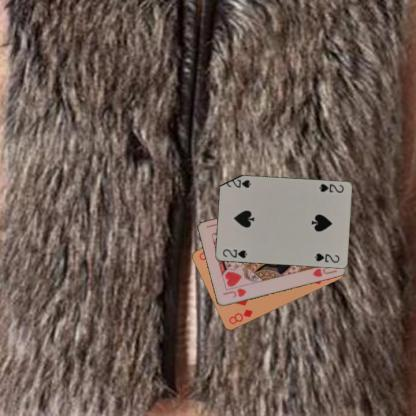2s: (220, 247, 248, 259), (317, 182, 345, 194)
8d: (226, 307, 254, 326)
Jh: (220, 286, 247, 299)
